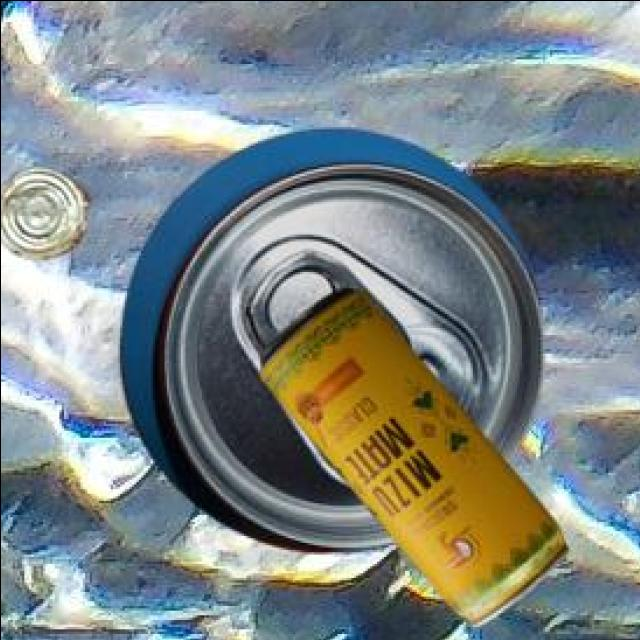logam: (123, 132, 545, 555), (263, 291, 571, 629), (0, 172, 90, 258)
